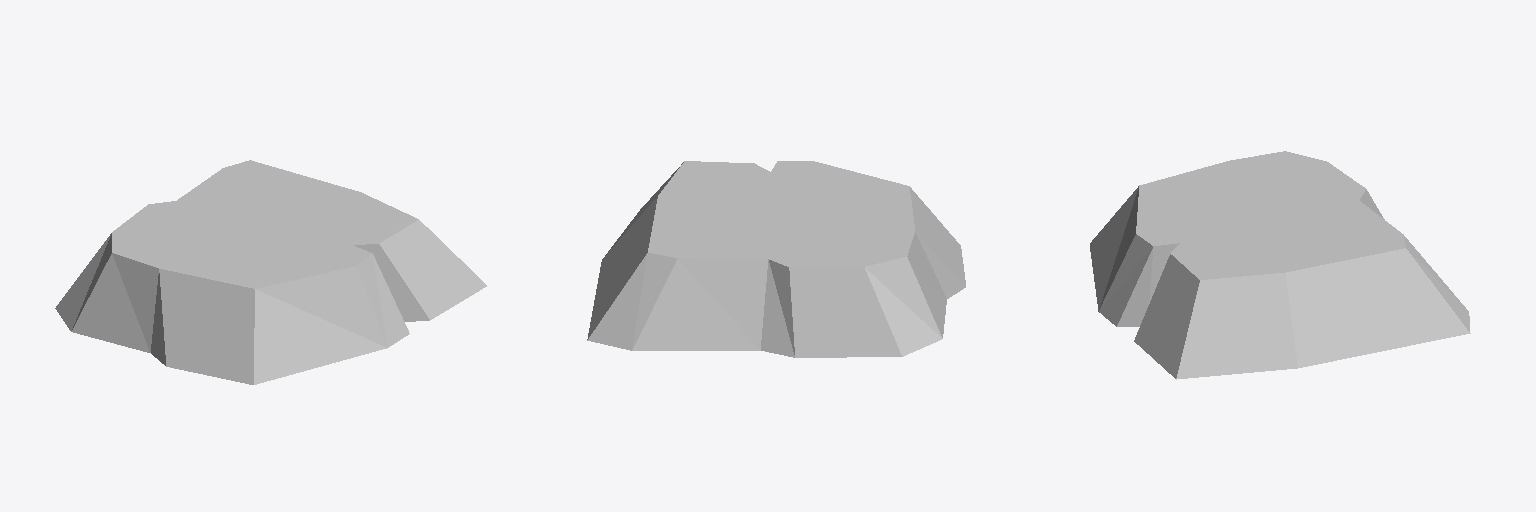
Rendered from lava-rocks(3).obj.
3 renders of one model, left to right at view 1: azimuth 30°, elevation 25°; view 2: azimuth 150°, elevation 25°; view 3: azimuth 270°, elevation 25°, orthographic.
Visible parts, largest first — view 1: Cube; view 2: Cube; view 3: Cube.
Boxes of the visible parts, box(x1,y1,x2,y2) form: Cube: box(55, 160, 486, 384); Cube: box(587, 161, 965, 357); Cube: box(1090, 151, 1470, 379).
Bounding box in the file's own units: 2.63 × 0.5 × 2.41.